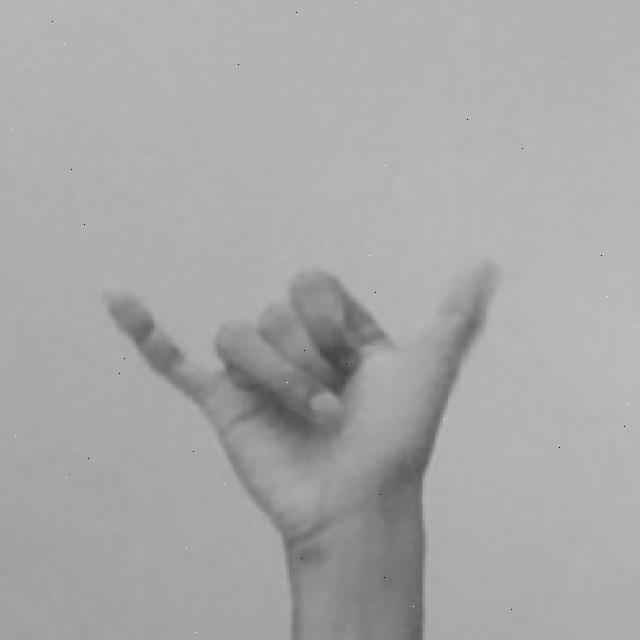Y: (92, 243, 502, 640)
